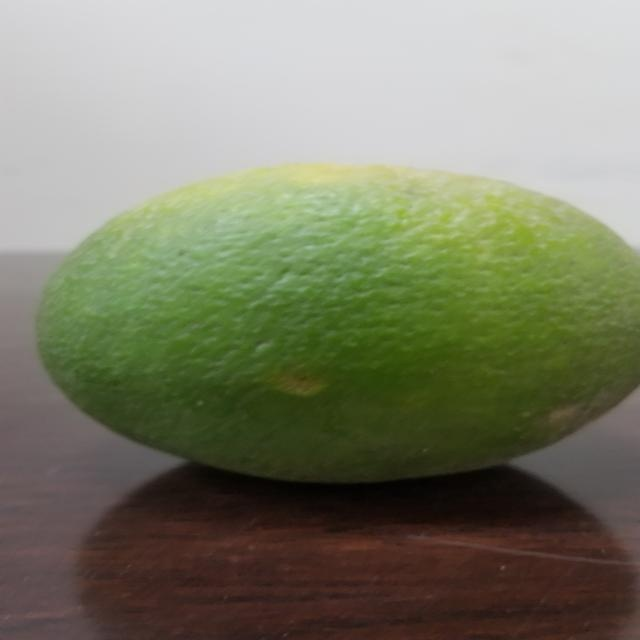agrume: (45, 155, 640, 481)
